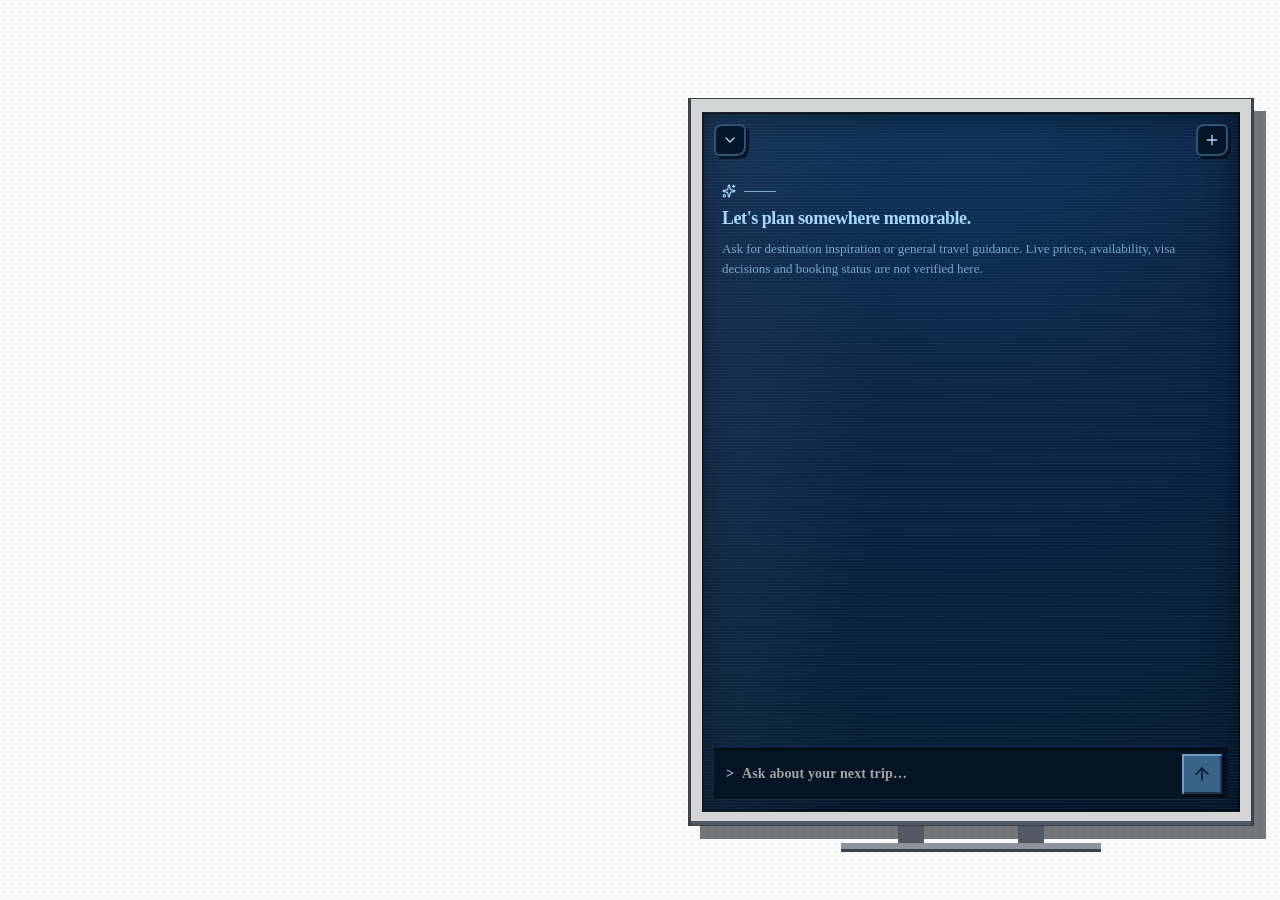
Test: ExploreChatHost exploration provisioning › shows the authentication reason when creating the first private chat is rejected
Type "Hi" into the text box named "Message Wanderly Agent".
click(958, 774); type("Hi")  # box 742,764 -> 1174,784
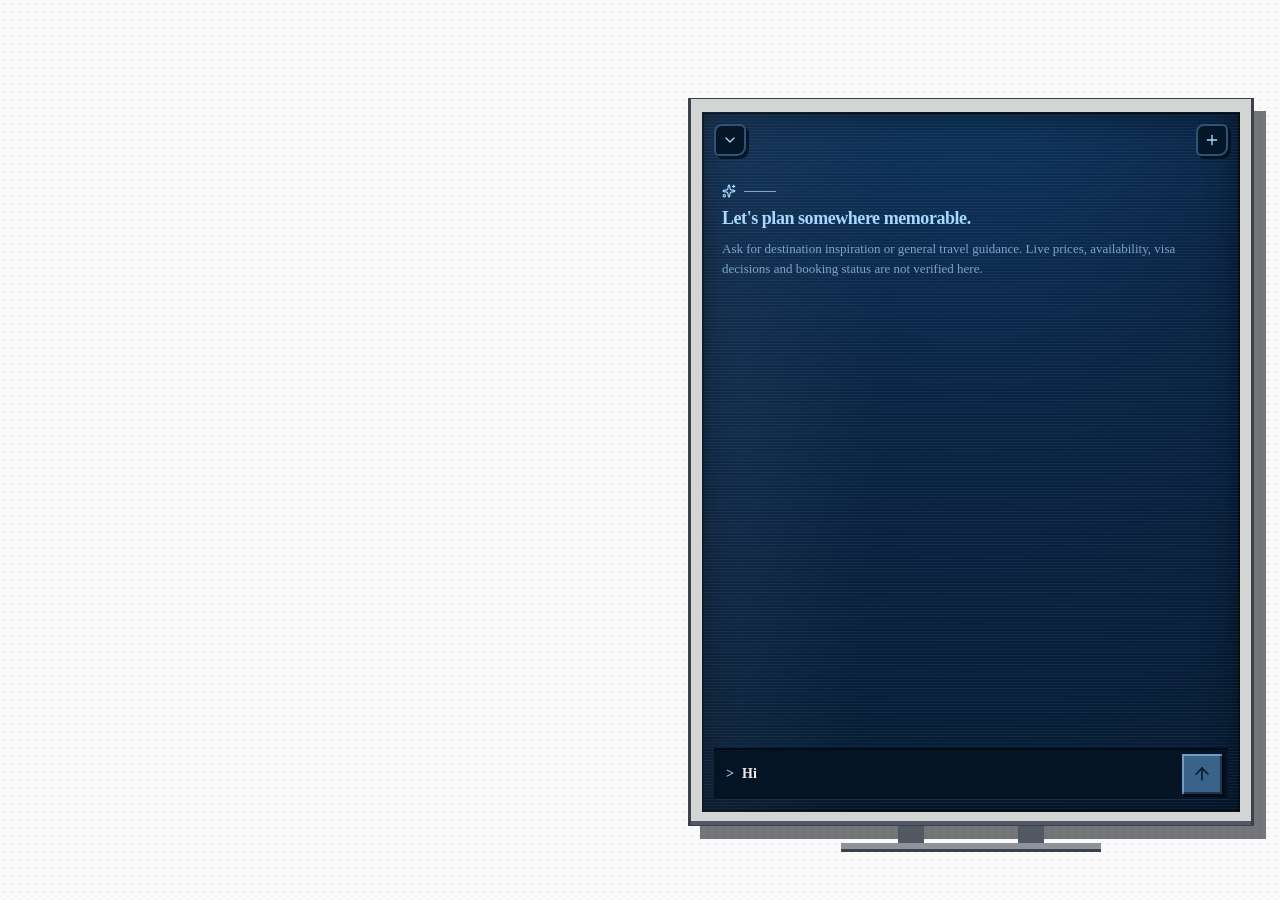
Click the button named "Send message".
click(1202, 774)  # box 1182,754 -> 1222,794
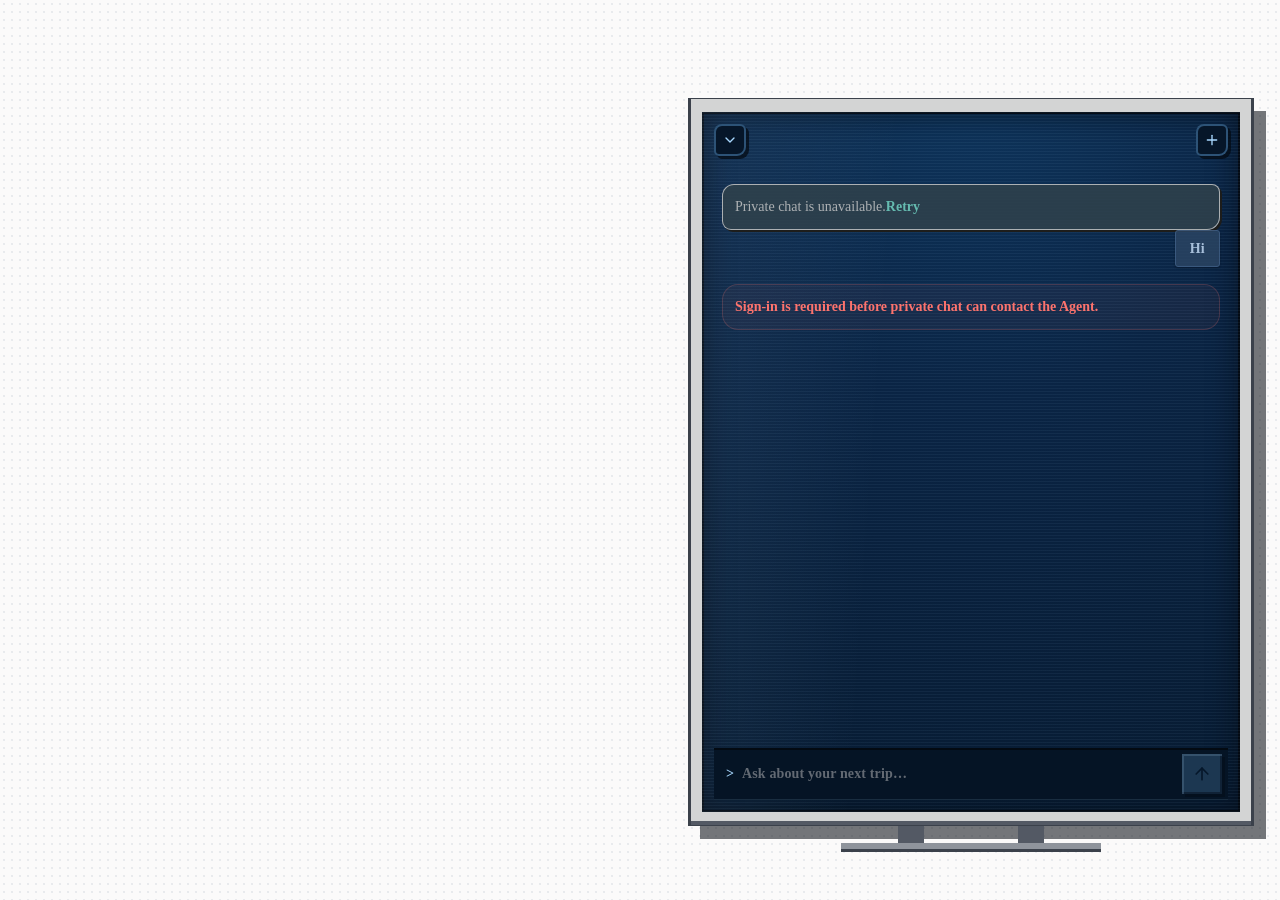
Expected: the text "Sign-in is required before private chat can contact the Agent." is shown, 735,299 -> 1099,314
